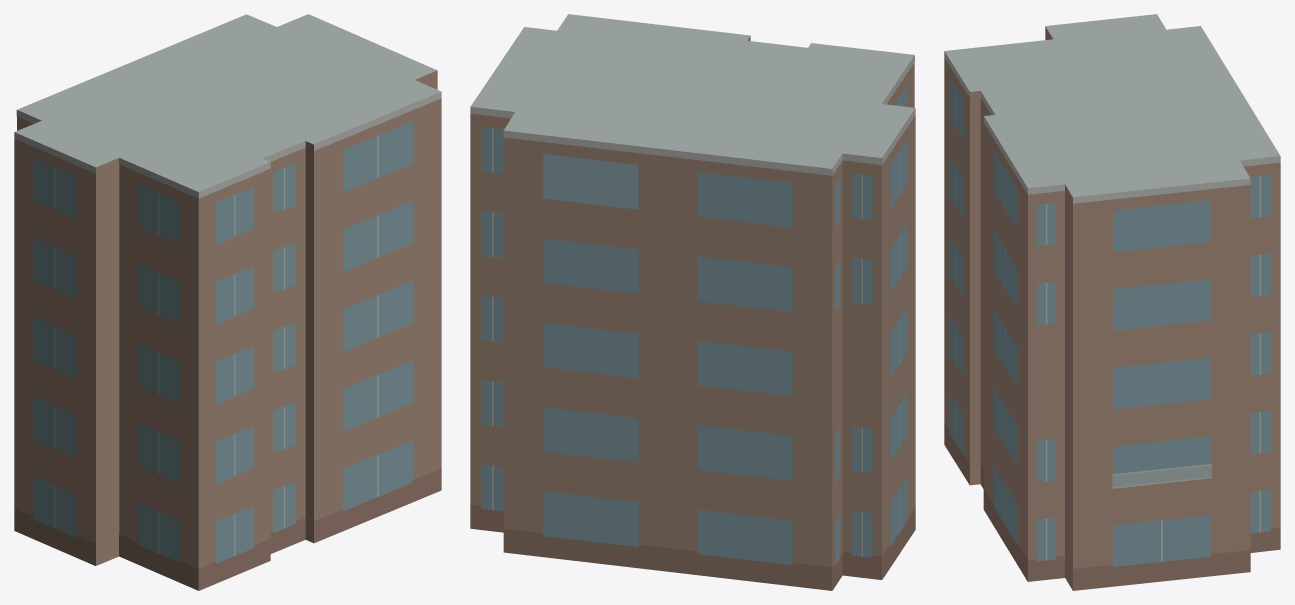
Rendered from survey-upis-32720233.glb.
3 views of the same model, side by side, from view 1: azimuth 30°, elevation 25°; view 2: azimuth 150°, elevation 25°; view 3: azimuth 270°, elevation 25° (orthographic). The views are drawn at different scales.
Visible parts, largest first — view 1: survey-upis-32720233.tmp; view 2: survey-upis-32720233.tmp; view 3: survey-upis-32720233.tmp.
Boxes of the visible parts, x1=… form: survey-upis-32720233.tmp: x1=14, y1=14, x2=441, y2=590; survey-upis-32720233.tmp: x1=470, y1=14, x2=915, y2=590; survey-upis-32720233.tmp: x1=944, y1=14, x2=1280, y2=590.
Bounding box in the file's own units: 14.95 × 14.95 × 11.59.
